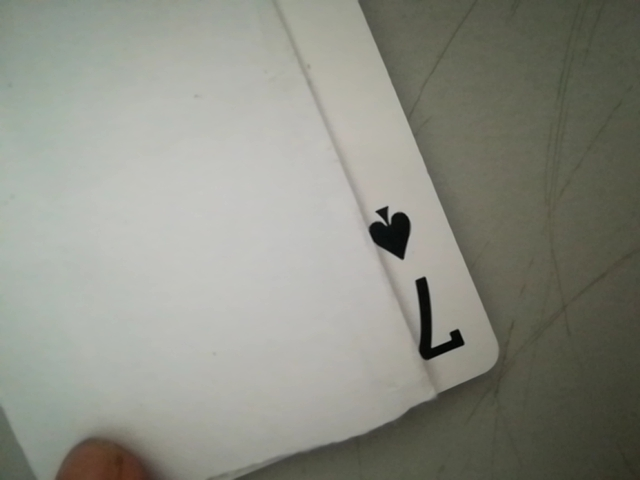ht 7: (363, 191, 480, 375)
